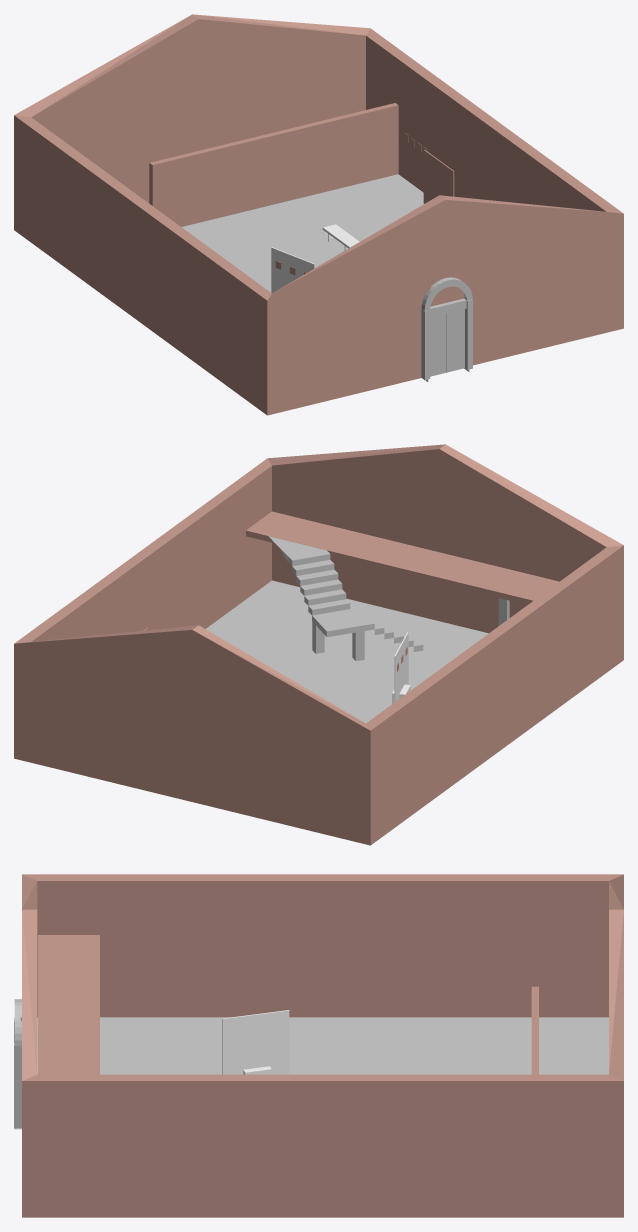
File: iphan_v3.obj
3 renders of one model, top to bottom at view 1: azimuth 30°, elevation 25°; view 2: azimuth 150°, elevation 25°; view 3: azimuth 270°, elevation 25°, orthographic. The views are drawn at different scales.
Parts seen in each view (by area): view 1: Room, Floor, Room_Back_White, Room_Back_Red, Door_Frame.001, Art_Display.001, Door.001, Art_Display.002, Door.002; view 2: Room, Floor, Room_Floor, Stairs.002, Stairs_Base, Stairs.001, Art_Display.002; view 3: Room, Floor, Room_Floor, Art_Display.002, Door_Frame.001, Room_Back_White.
Boxes of the visible parts, x1,y1,x2,y2 form: Room: (14,14,623,415); Floor: (181,174,423,292); Room_Back_White: (149,103,398,199); Room_Back_Red: (149,139,398,226); Door_Frame.001: (421,277,472,380); Art_Display.001: (423,149,454,203); Door.001: (446,309,464,372); Art_Display.002: (271,247,315,293); Door.002: (430,313,446,376); Room: (14,444,623,845); Floor: (205,580,488,723); Room_Floor: (246,511,558,604); Stairs.002: (288,550,350,615); Stairs_Base: (268,536,364,660); Stairs.001: (350,607,423,651); Art_Display.002: (392,632,410,703); Room: (22,874,623,1217); Floor: (37,1017,608,1074); Room_Floor: (38,935,99,1074); Art_Display.002: (222,1010,289,1074); Door_Frame.001: (14,999,21,1127); Room_Back_White: (531,986,538,1074).
Bounding box in the file's own units: 13 × 6.1 × 16.22.
